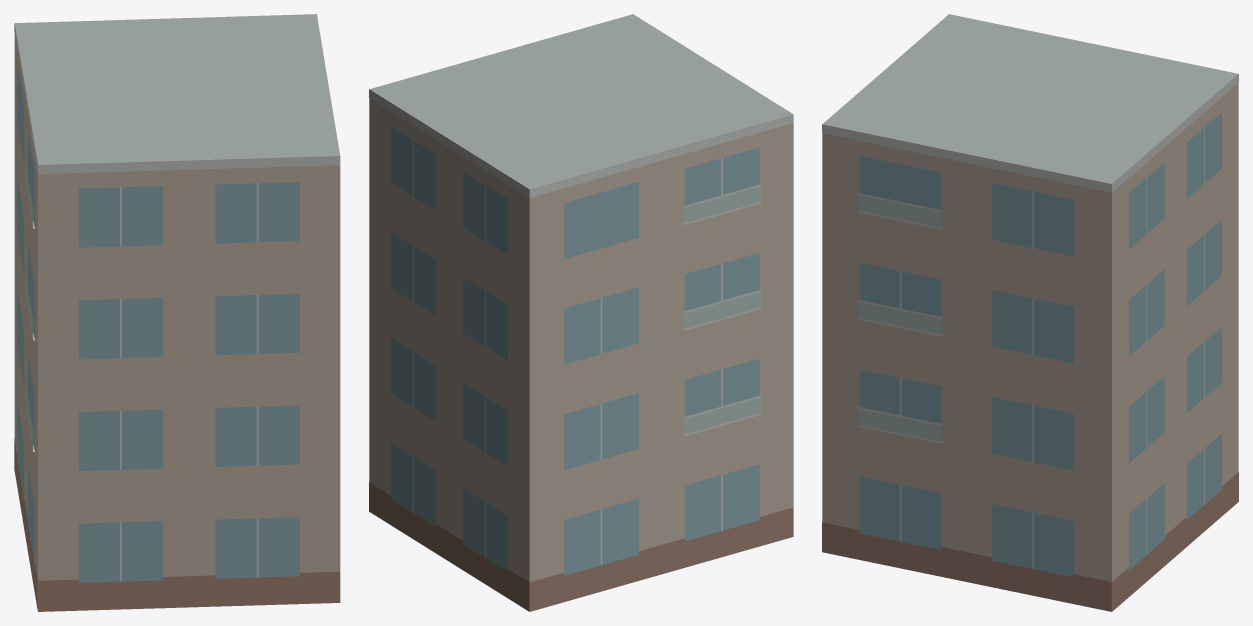
File: survey-upis-32525617.glb
3 renders of one model, left to right at view 1: azimuth 30°, elevation 25°; view 2: azimuth 150°, elevation 25°; view 3: azimuth 270°, elevation 25°, orthographic. The views are drawn at different scales.
Parts seen in each view (by area): view 1: survey-upis-32525617.tmp; view 2: survey-upis-32525617.tmp; view 3: survey-upis-32525617.tmp.
Part boxes in pixels (x1,y1,x2,y2): survey-upis-32525617.tmp: (14,14,340,611); survey-upis-32525617.tmp: (369,14,793,611); survey-upis-32525617.tmp: (822,14,1238,611).
Size of the model in its own units: 10.15 by 11.9 by 10.51.
